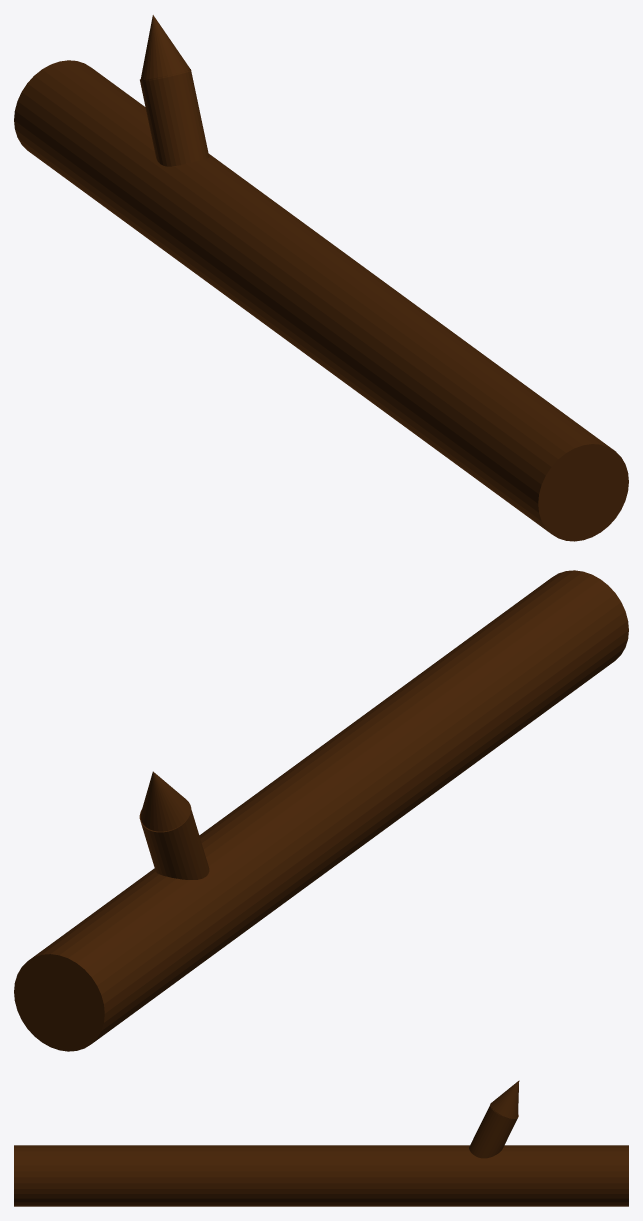
The model's file is brevno.fbx.
3 renders of one model, top to bottom at view 1: azimuth 30°, elevation 25°; view 2: azimuth 150°, elevation 25°; view 3: azimuth 270°, elevation 25°, orthographic. The views are drawn at different scales.
Parts seen in each view (by area): view 1: Cylinder, Cylinder.001, Cone; view 2: Cylinder, Cylinder.001, Cone; view 3: Cylinder, Cylinder.001, Cone.
Part boxes in pixels (x1,y1,x2,y2): Cylinder: (14, 60, 628, 541); Cylinder.001: (140, 69, 209, 166); Cone: (140, 15, 191, 81); Cylinder: (14, 570, 628, 1051); Cylinder.001: (139, 802, 209, 879); Cone: (140, 771, 191, 831); Cylinder: (14, 1145, 628, 1206); Cylinder.001: (469, 1105, 518, 1158); Cone: (490, 1080, 519, 1118).
Bounding box in the file's own units: 20 × 44.33 × 200.
